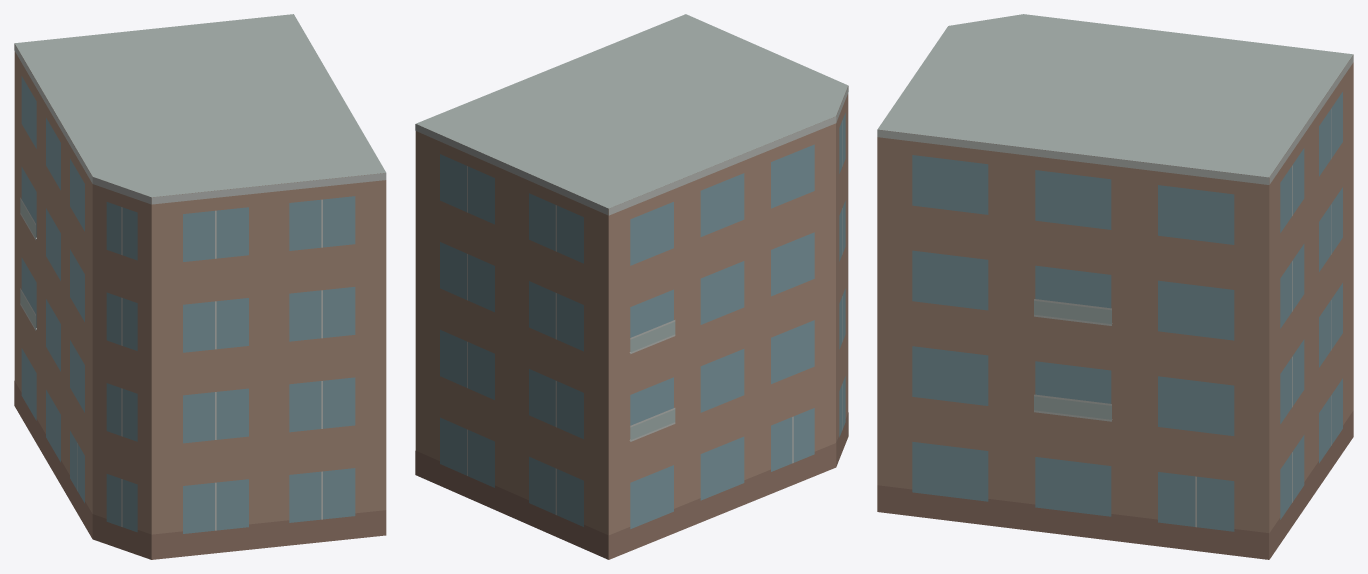
Rendered from residential-9e27a3d1-2aa7-4360-ba87-c0968df3199c.glb.
The picture shows the model from 3 angles, left to right: view 1: azimuth 30°, elevation 25°; view 2: azimuth 150°, elevation 25°; view 3: azimuth 270°, elevation 25°; orthographic projection. The views are drawn at different scales.
Visible parts, largest first — view 1: residential-9e27a3d1-2aa7-4360-ba87-c0968df3199c.tmp; view 2: residential-9e27a3d1-2aa7-4360-ba87-c0968df3199c.tmp; view 3: residential-9e27a3d1-2aa7-4360-ba87-c0968df3199c.tmp.
Boxes of the visible parts, x1,y1,x2,y2 form: residential-9e27a3d1-2aa7-4360-ba87-c0968df3199c.tmp: (14,14,386,559); residential-9e27a3d1-2aa7-4360-ba87-c0968df3199c.tmp: (415,14,848,559); residential-9e27a3d1-2aa7-4360-ba87-c0968df3199c.tmp: (877,14,1353,559).
Size of the model in its own units: 11.19 by 12.2 by 13.78.
